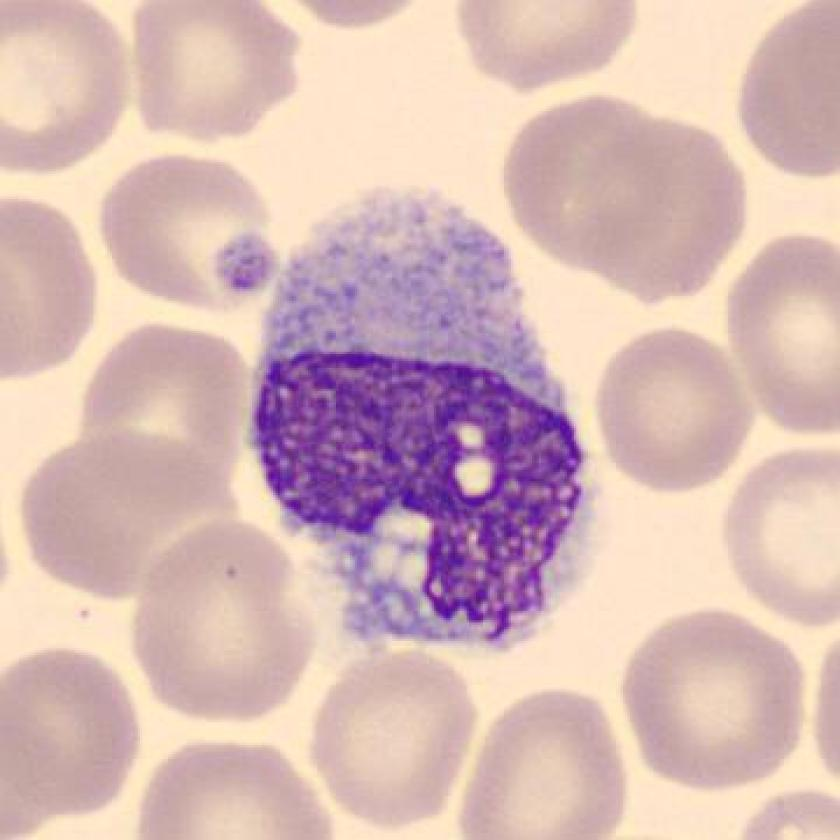monocyte: (237, 170, 619, 681)
